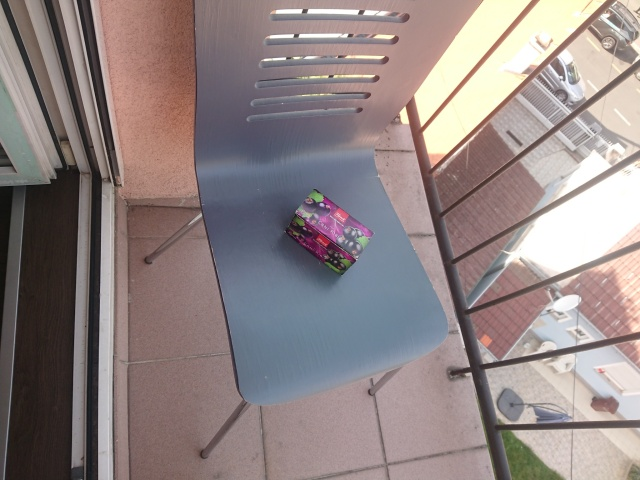Franck Black Currant Tea 60g: (282, 186, 377, 277)
